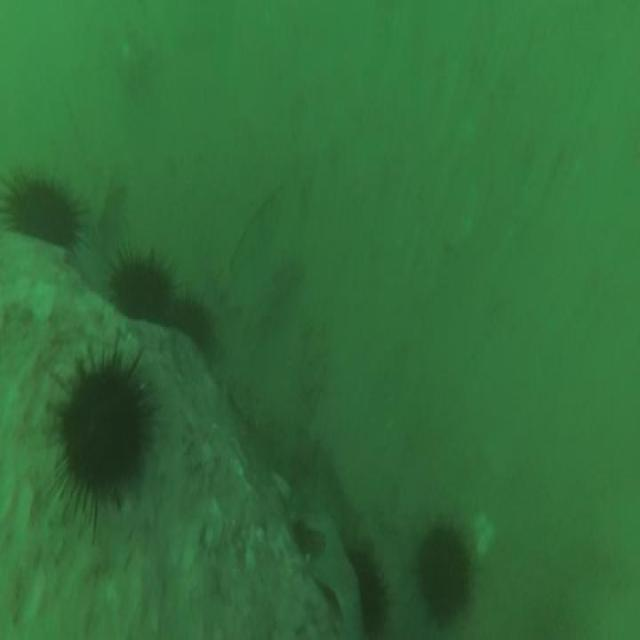echinus: (44, 326, 164, 546), (408, 499, 483, 640), (0, 163, 92, 262), (104, 232, 172, 322), (343, 539, 396, 640), (167, 278, 221, 359)
